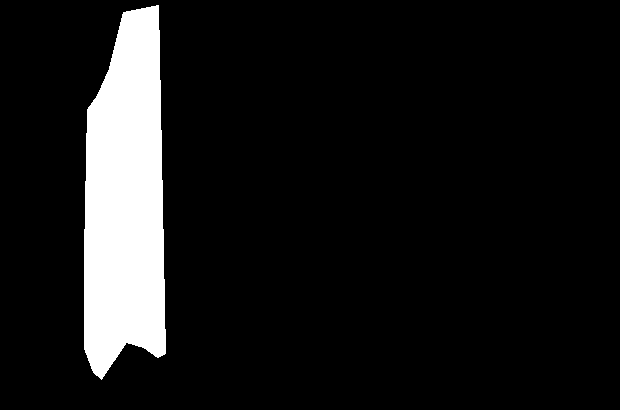type3s: (82, 4, 167, 381)
